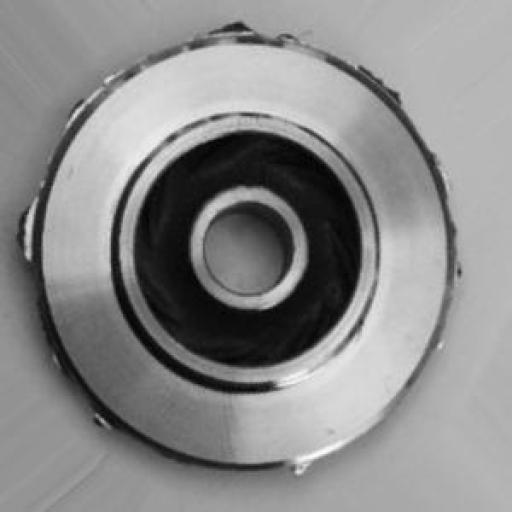defect: (15, 19, 477, 492)
